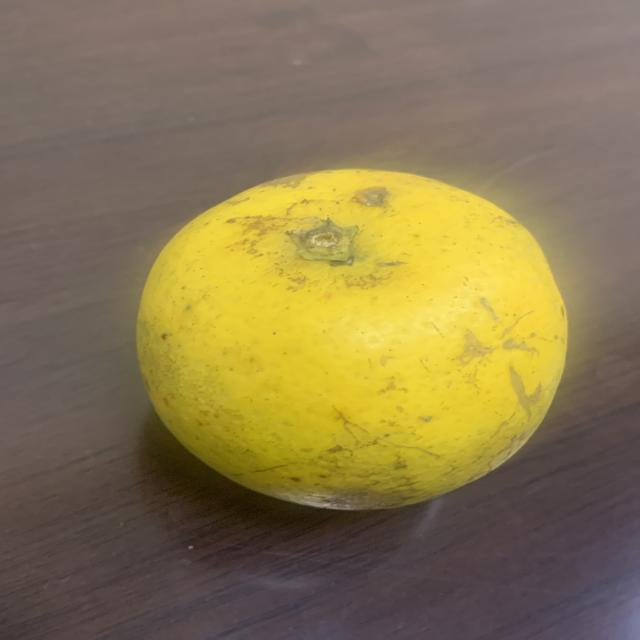Ripe orange: (110, 152, 582, 516)
